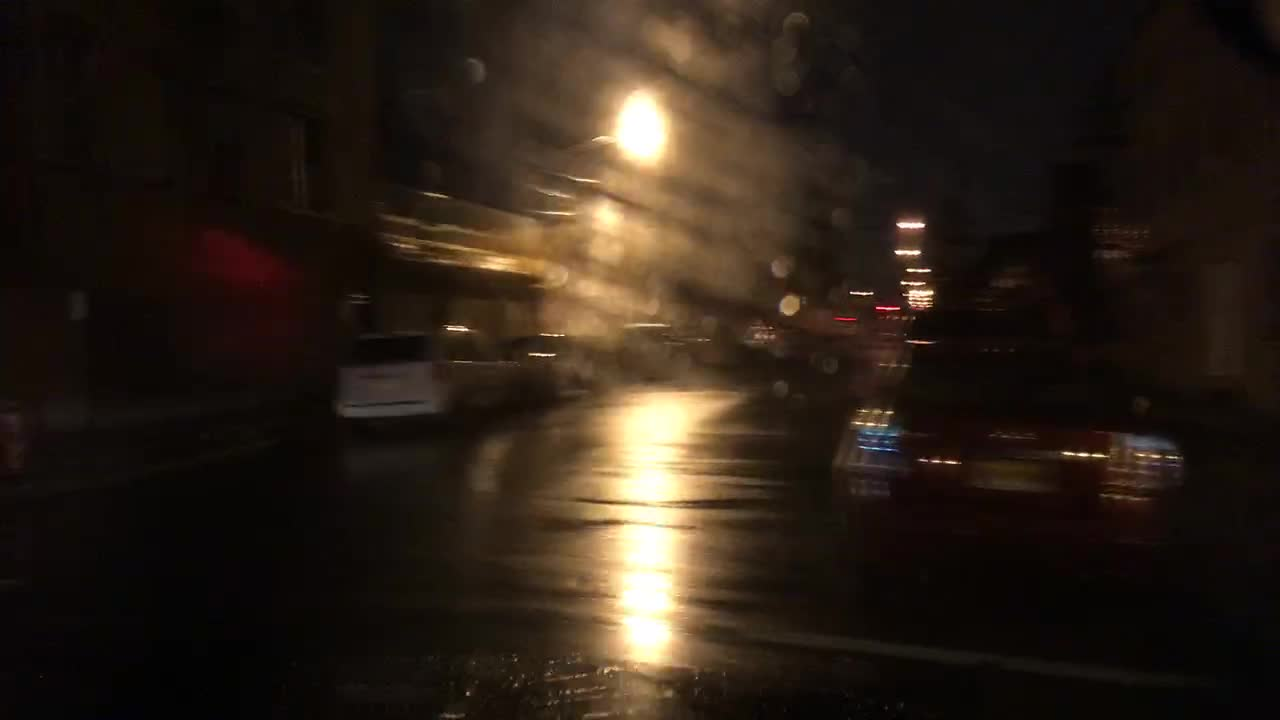car: (833, 322, 1190, 590), (333, 324, 524, 423), (507, 329, 630, 390), (889, 299, 1042, 340), (623, 319, 703, 386), (689, 314, 760, 365), (747, 321, 804, 354), (678, 607, 689, 608)
